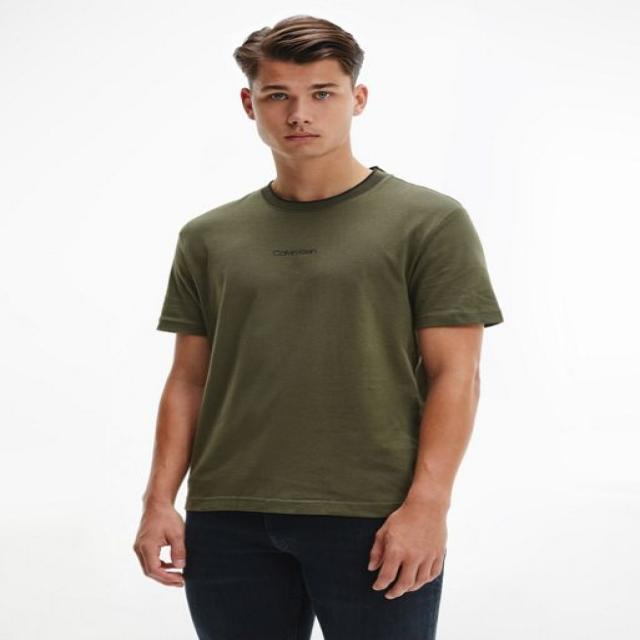tshirt: (153, 166, 504, 520)
